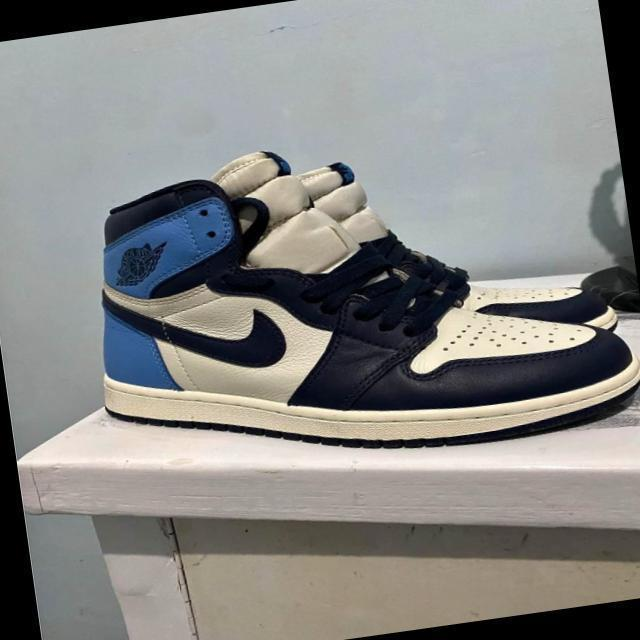nike original jordan 1: (73, 105, 640, 494), (263, 121, 629, 380)
